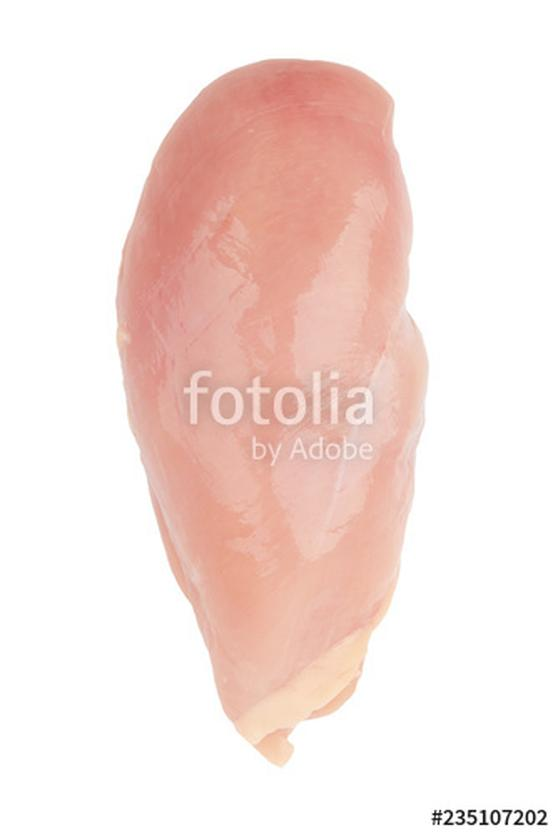chicken_fillet: (115, 58, 433, 769)
